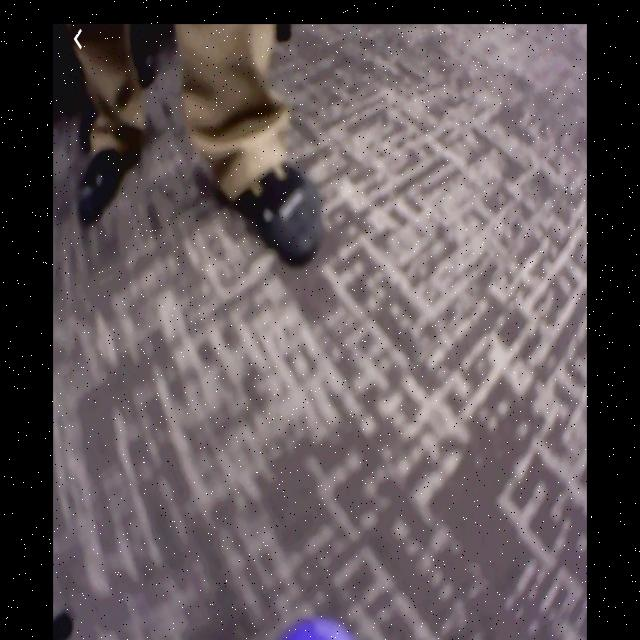ball: (278, 609, 354, 640)
